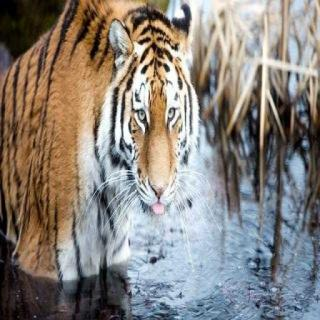Tiger: (0, 0, 211, 305)
